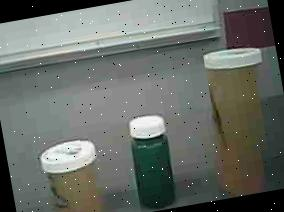Bottle A: (187, 33, 284, 201)
Bottle B: (33, 132, 110, 212)
Bottle C: (120, 106, 186, 212)
